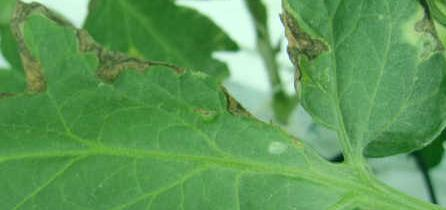Tomato leaf bacterial spot: (0, 3, 324, 210), (267, 0, 446, 181)
